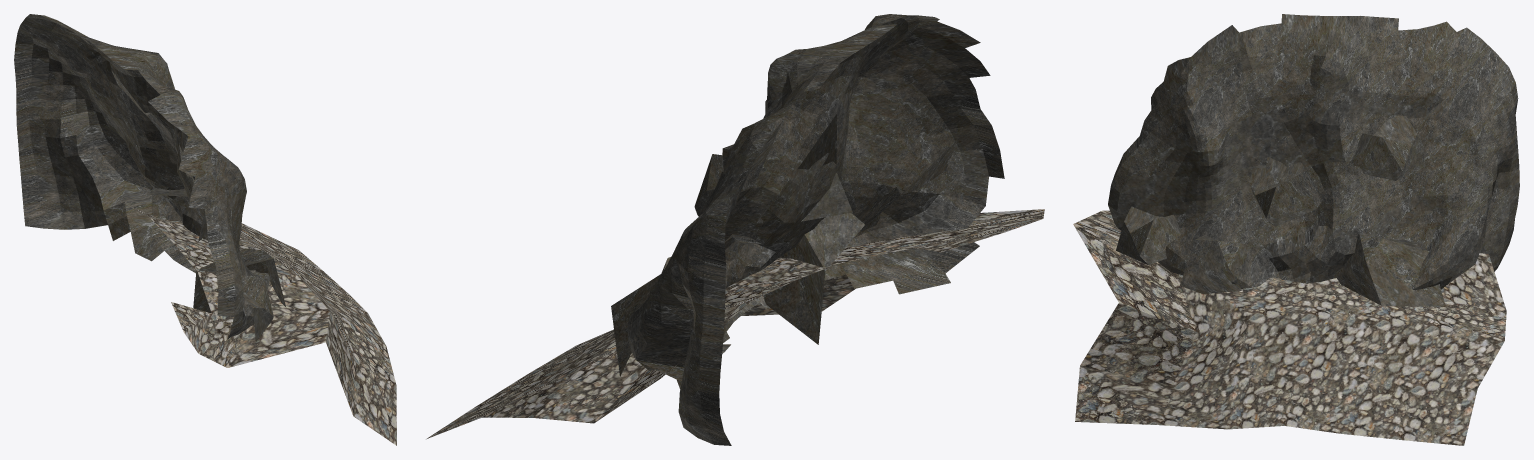
The model's file is cliff.fbx.
3 views of the same model, side by side, from view 1: azimuth 30°, elevation 25°; view 2: azimuth 150°, elevation 25°; view 3: azimuth 270°, elevation 25° (orthographic). The views are drawn at different scales.
Visible parts, largest first — view 1: Cube.005; view 2: Cube.005; view 3: Cube.005.
Boxes of the visible parts, x1,y1,x2,y2 form: Cube.005: (14,14,396,445); Cube.005: (426,14,1044,445); Cube.005: (1073,14,1519,445).
Bounding box in the file's own units: 1026 × 1160 × 1427.
